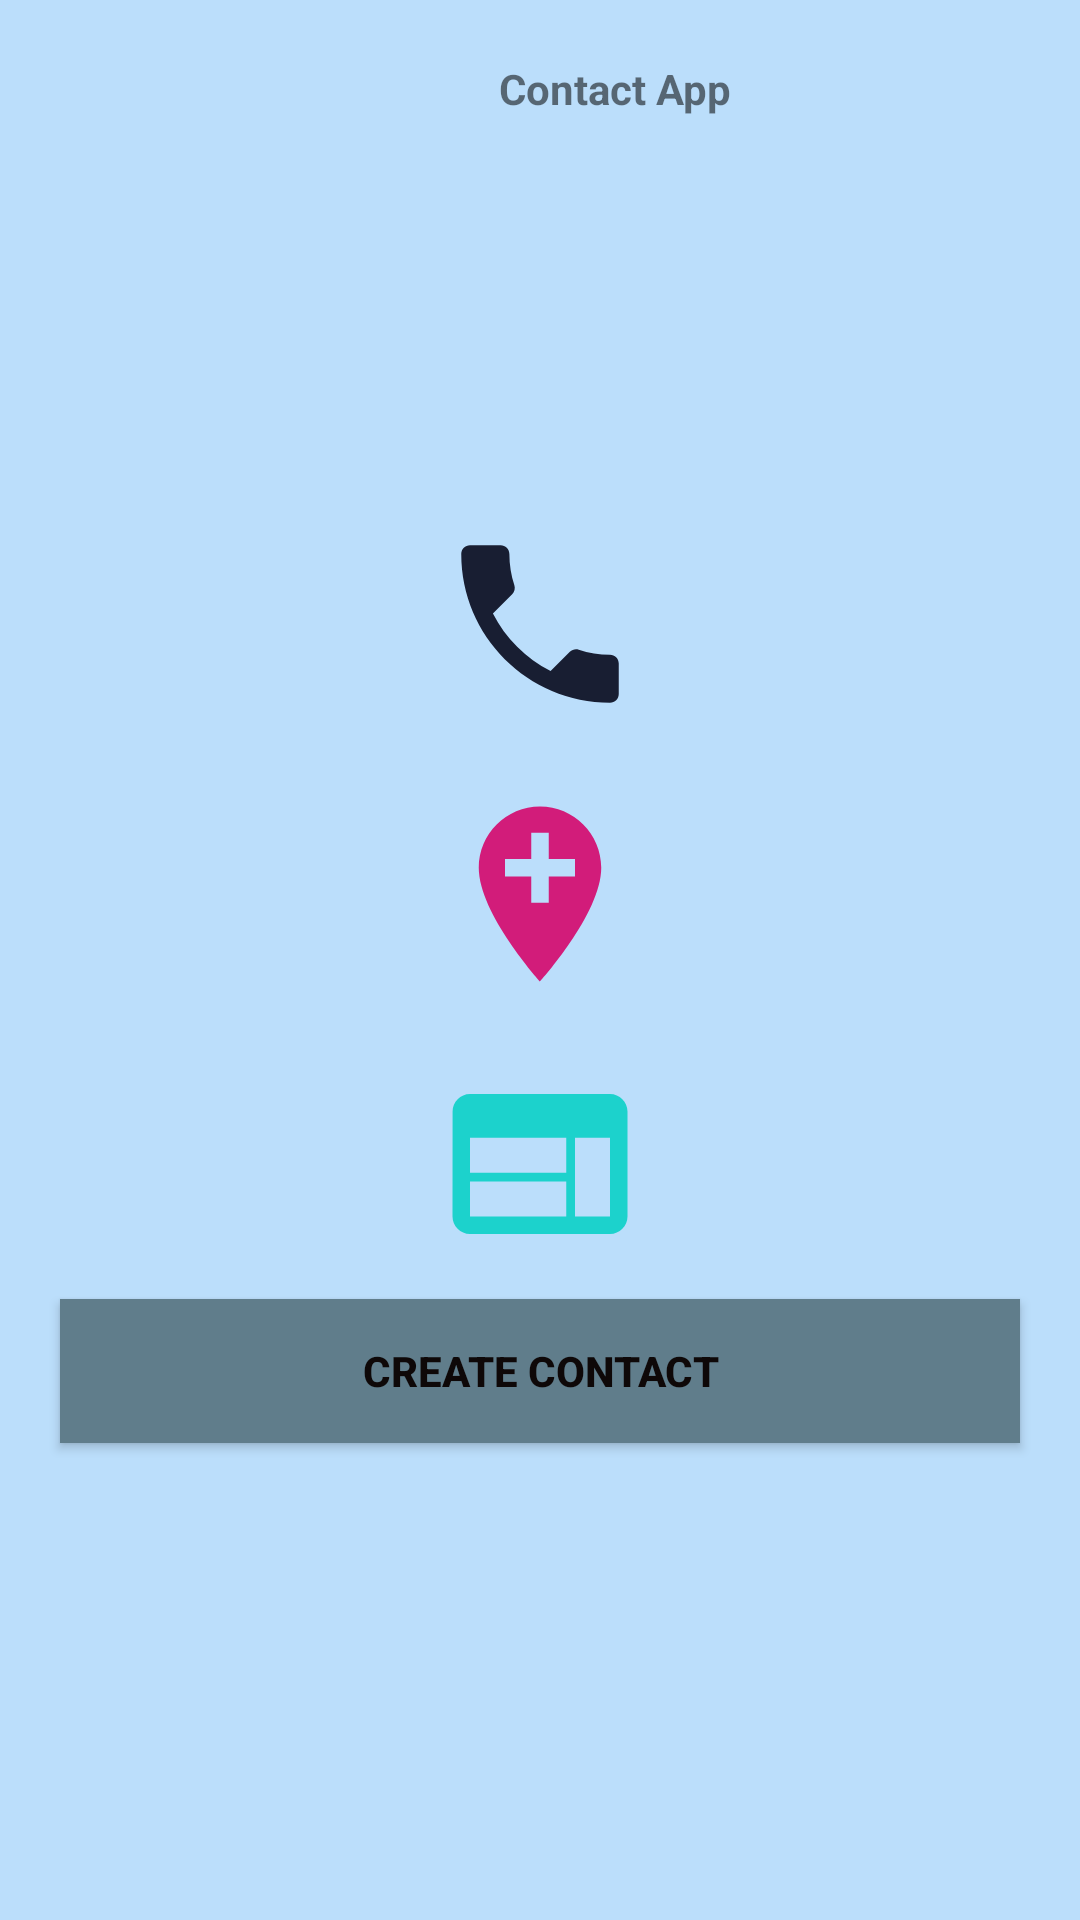

Screen size 1080x1920. Icon name, then its box in pixels as (x1, y1, x2, y2):
location: (478, 806, 602, 982)
phone: (461, 545, 619, 703)
webpage: (452, 1094, 628, 1234)
